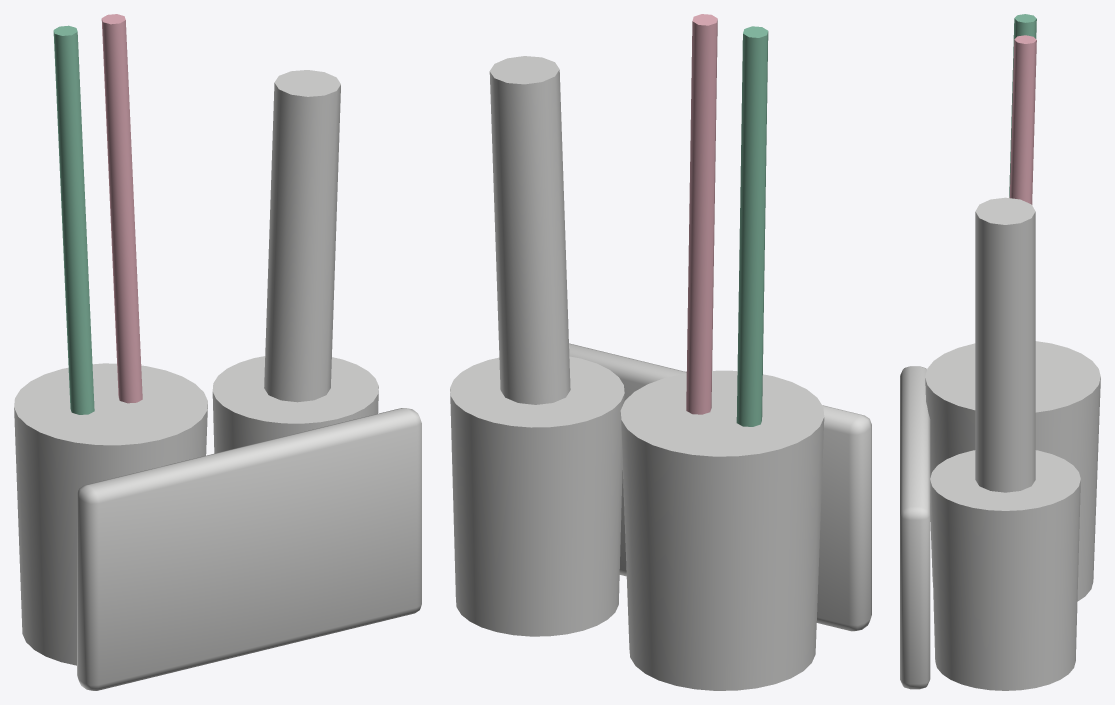
File: recTSSbYuq7L6eszO.glb
3 views of the same model, side by side, from view 1: azimuth 30°, elevation 25°; view 2: azimuth 150°, elevation 25°; view 3: azimuth 270°, elevation 25° (orthographic). The views are drawn at different scales.
Visible parts, largest first — view 1: porte_brosses_douche_etage_Corps; view 2: porte_brosses_douche_etage_Corps; view 3: porte_brosses_douche_etage_Corps.
Boxes of the visible parts, left/top/right/bottom form: porte_brosses_douche_etage_Corps: left=14, top=14, right=421, bottom=690; porte_brosses_douche_etage_Corps: left=450, top=14, right=871, bottom=690; porte_brosses_douche_etage_Corps: left=900, top=14, right=1100, bottom=690.
Size of the model in its own units: 0.14 by 0.2402 by 0.08.
